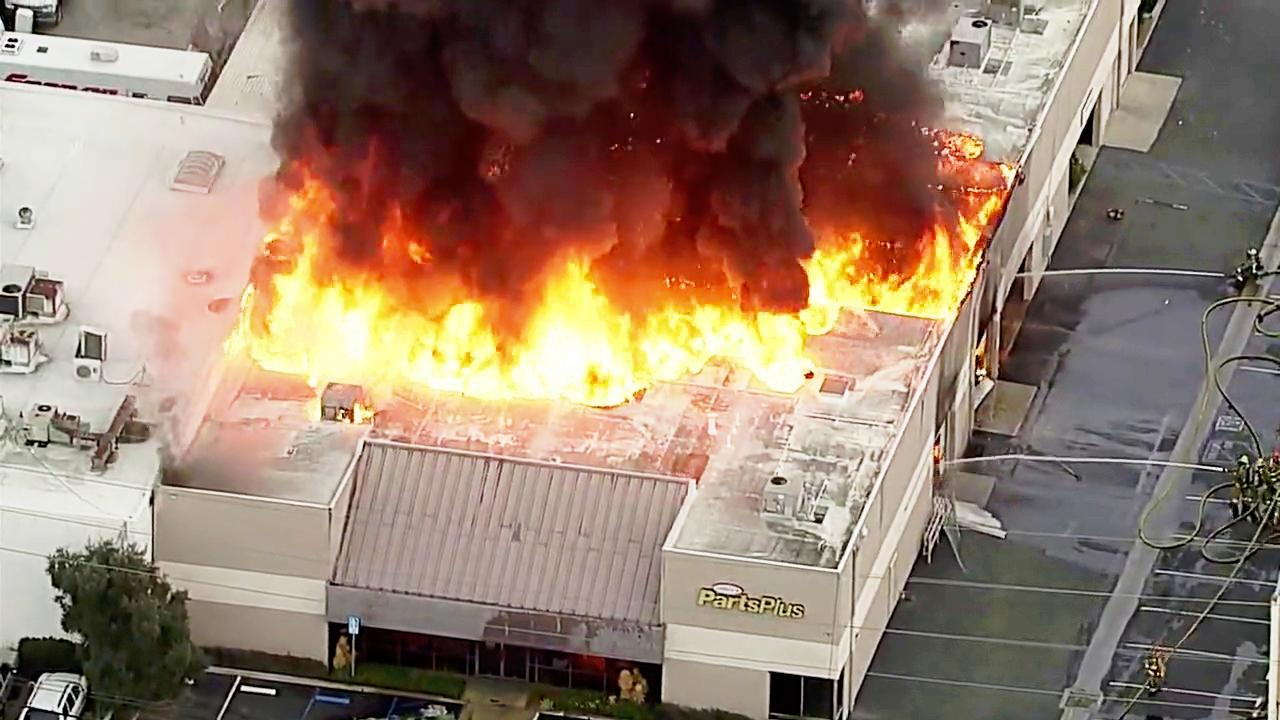fire: (272, 184, 445, 391), (455, 249, 647, 399), (795, 204, 974, 320), (642, 264, 817, 375)
smoke: (289, 5, 825, 170)
